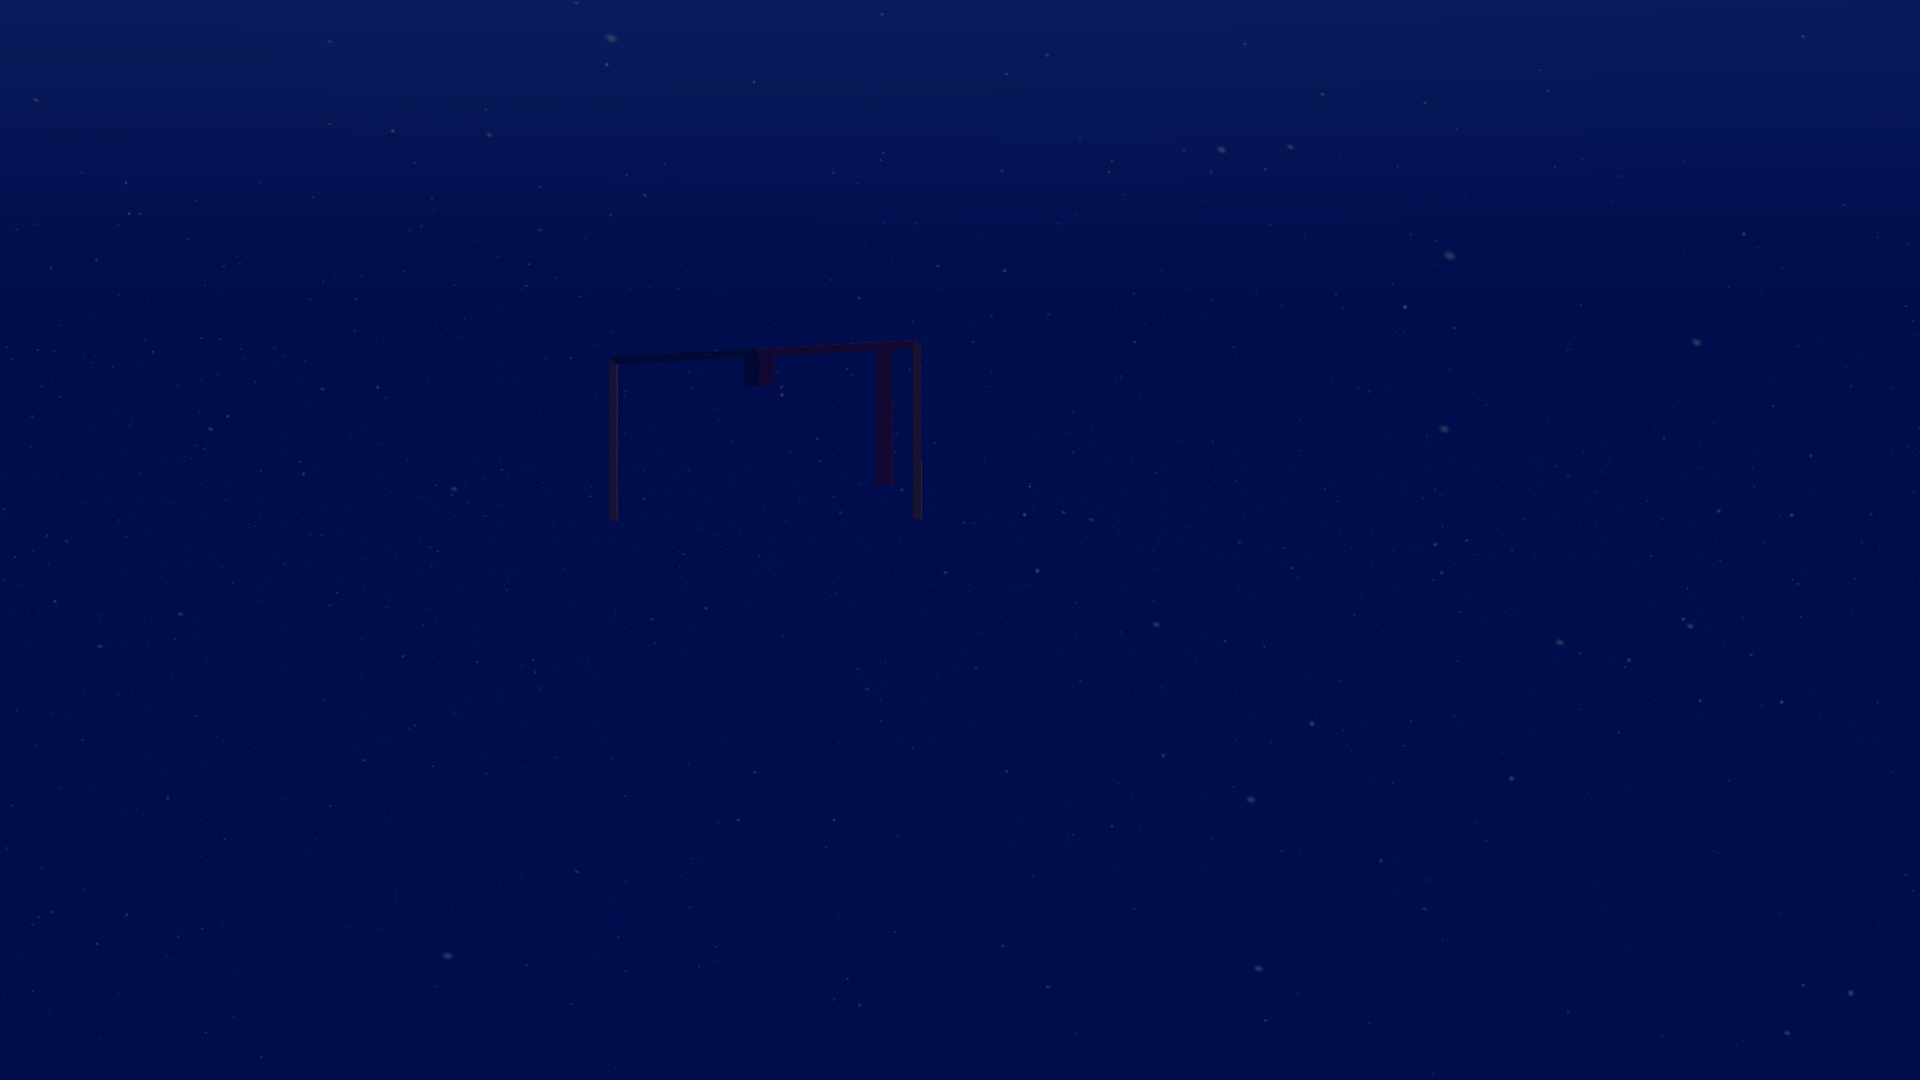Gate: (600, 335, 928, 530)
